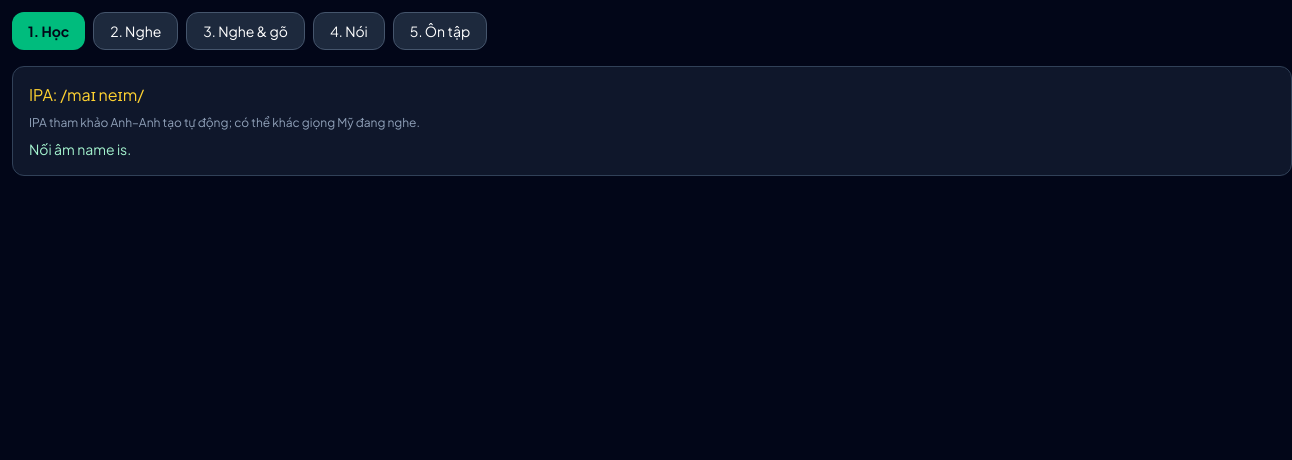
Test: remembers the selected slow speed when opening another lesson
Click the button "2. Nghe".
click(136, 31)  # box [93, 12, 178, 50]
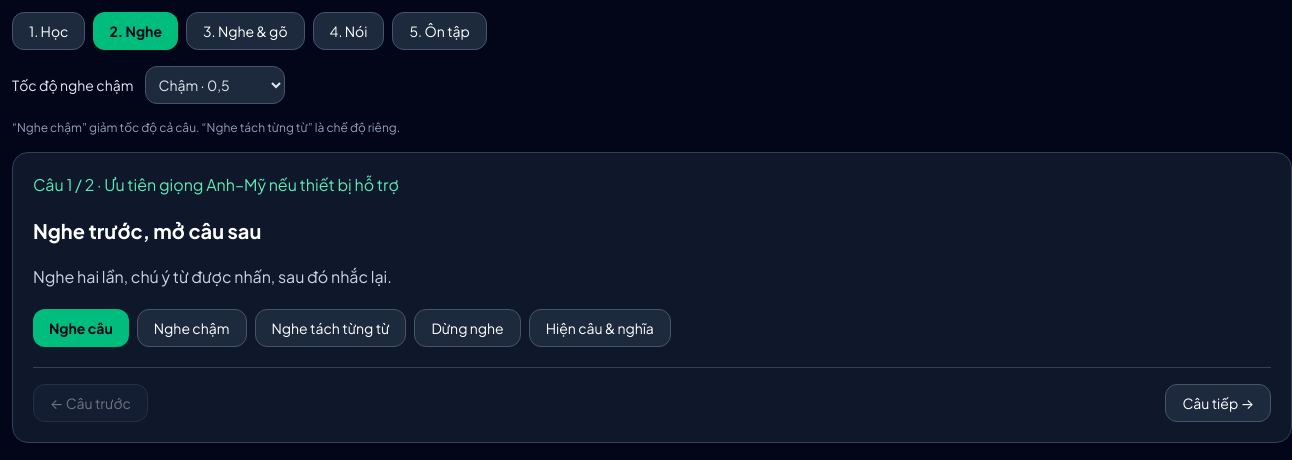
Select "Rất chậm · 0,35" in the dropdown named "Tốc độ nghe chậm" at (216, 85), box [146, 66, 286, 104]
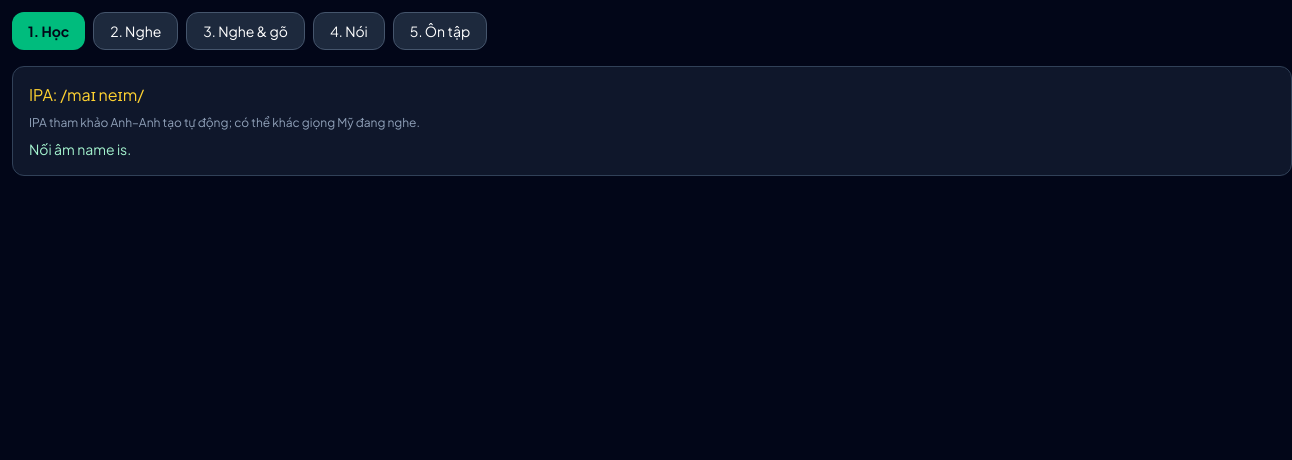
Click the button "2. Nghe".
click(136, 31)  # box [93, 12, 178, 50]
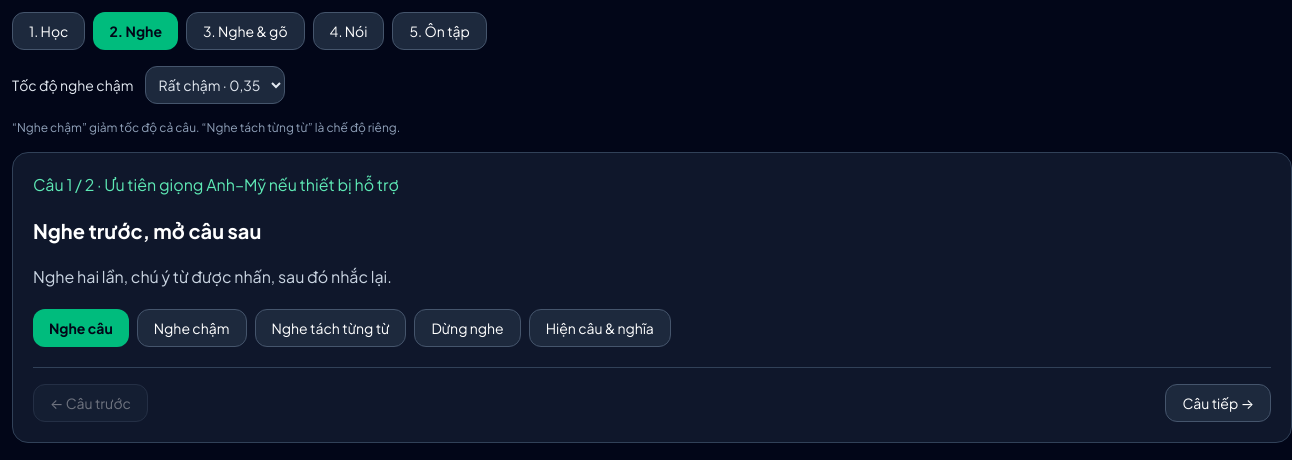
Expected: the dropdown named "Tốc độ nghe chậm" shows "Rất chậm · 0,35", [146, 66, 286, 104]
